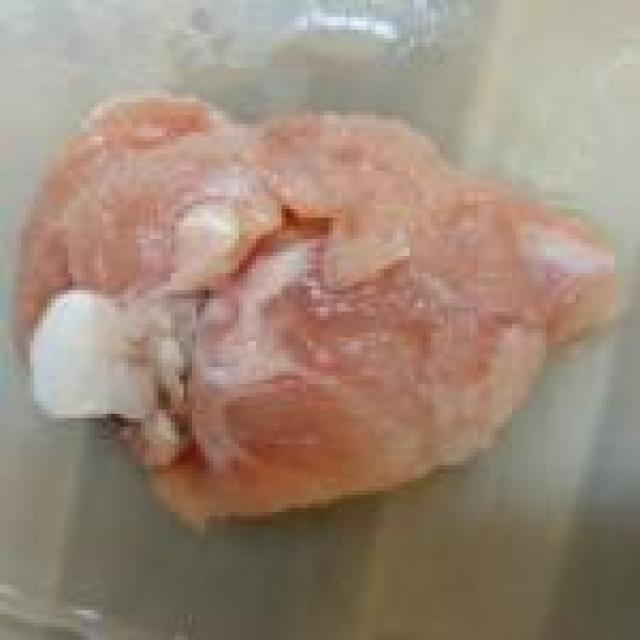breast: (22, 84, 614, 516)
